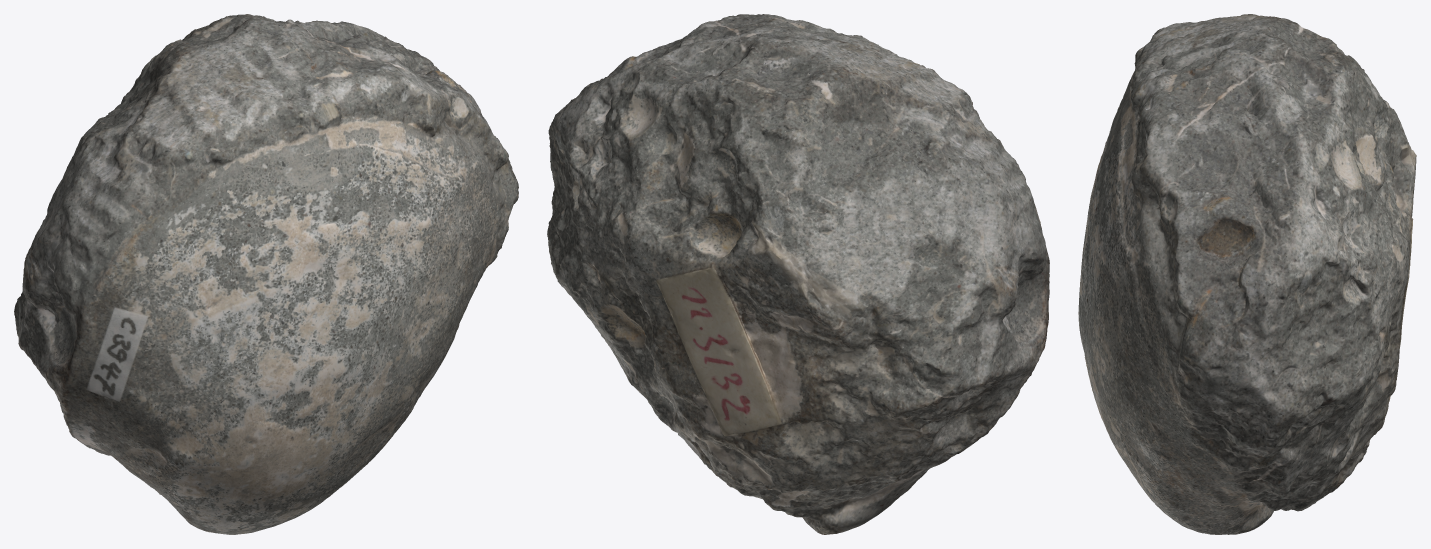
Rendered from EWS0016360.glb.
3 renders of one model, left to right at view 1: azimuth 30°, elevation 25°; view 2: azimuth 150°, elevation 25°; view 3: azimuth 270°, elevation 25°, orthographic. The views are drawn at different scales.
Visible parts, largest first — view 1: input; view 2: input; view 3: input.
Boxes of the visible parts, x1,y1,x2,y2 form: input: (14,14,518,534); input: (547,14,1049,534); input: (1078,14,1416,534).
Bounding box in the file's own units: 0.0387 × 0.0389 × 0.0234.
Materials: 1 (1 with a texture image).
